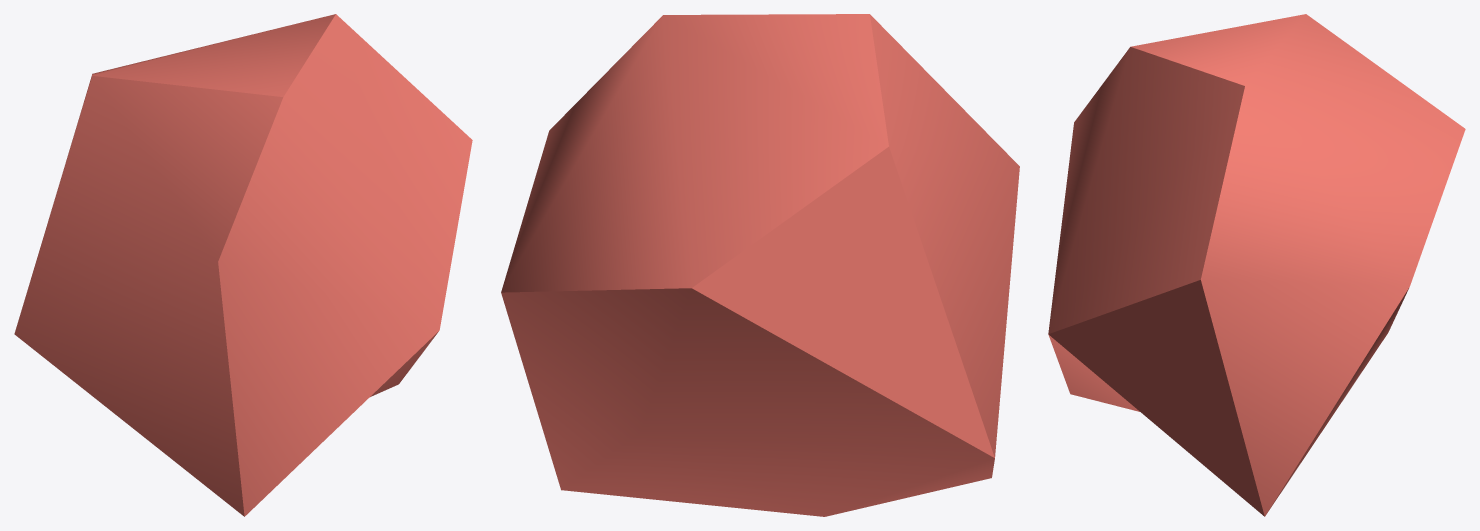
Rendered from Rock_04.glb.
3 views of the same model, side by side, from view 1: azimuth 30°, elevation 25°; view 2: azimuth 150°, elevation 25°; view 3: azimuth 270°, elevation 25° (orthographic). The views are drawn at different scales.
Parts seen in each view (by area): view 1: Rock_04; view 2: Rock_04; view 3: Rock_04.
Boxes of the visible parts, x1,y1,x2,y2 form: Rock_04: (14,14,472,516); Rock_04: (501,14,1019,516); Rock_04: (1048,14,1465,516).
Size of the model in its own units: 79.29 by 73.13 by 69.97.
